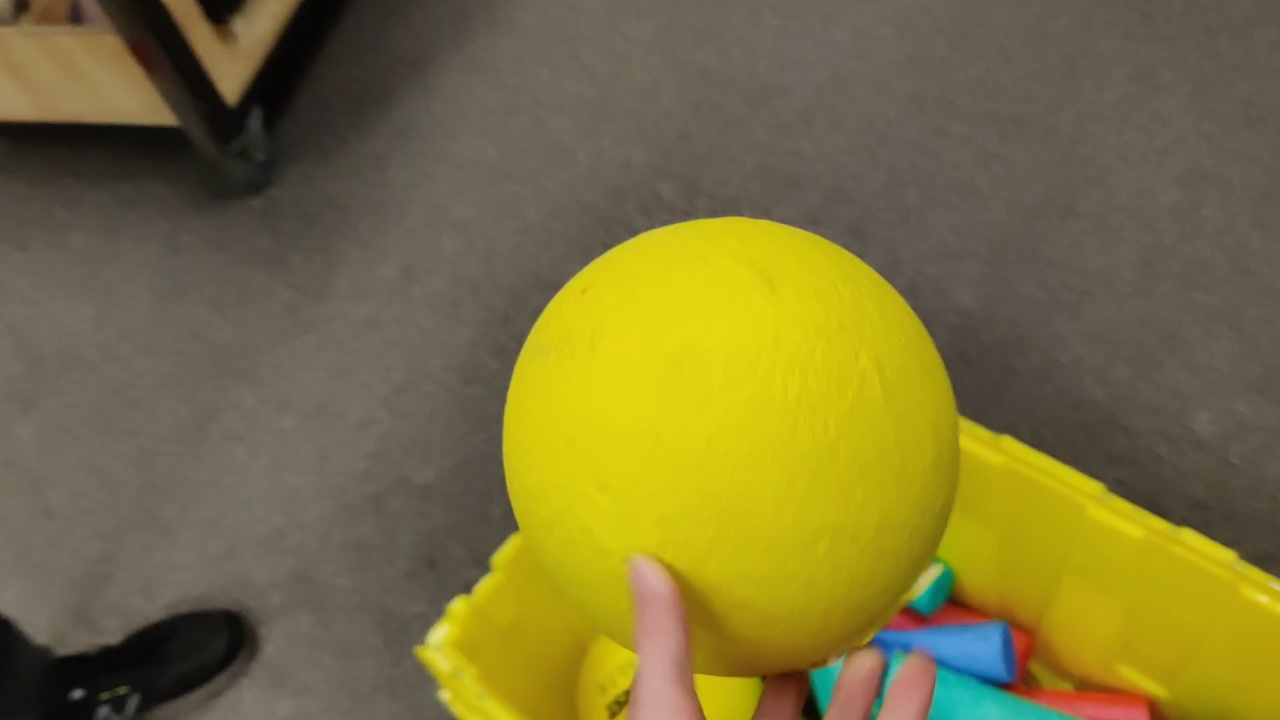Ball: (502, 218, 966, 680), (579, 628, 764, 720)
